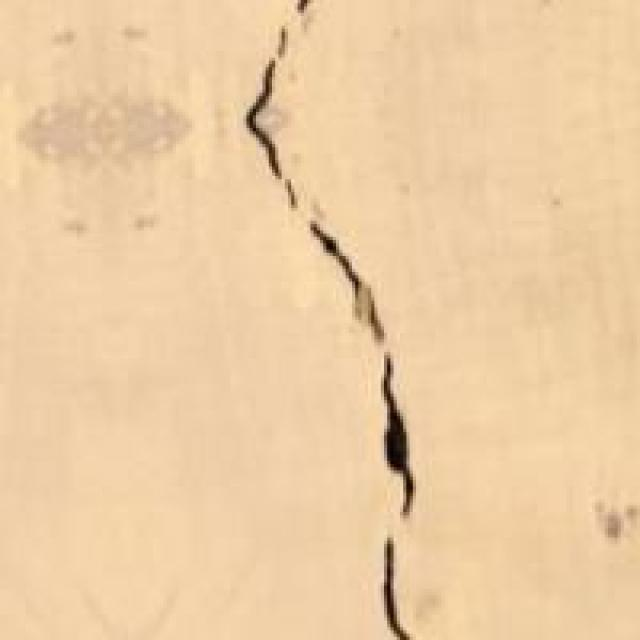crack: (173, 0, 461, 637)
